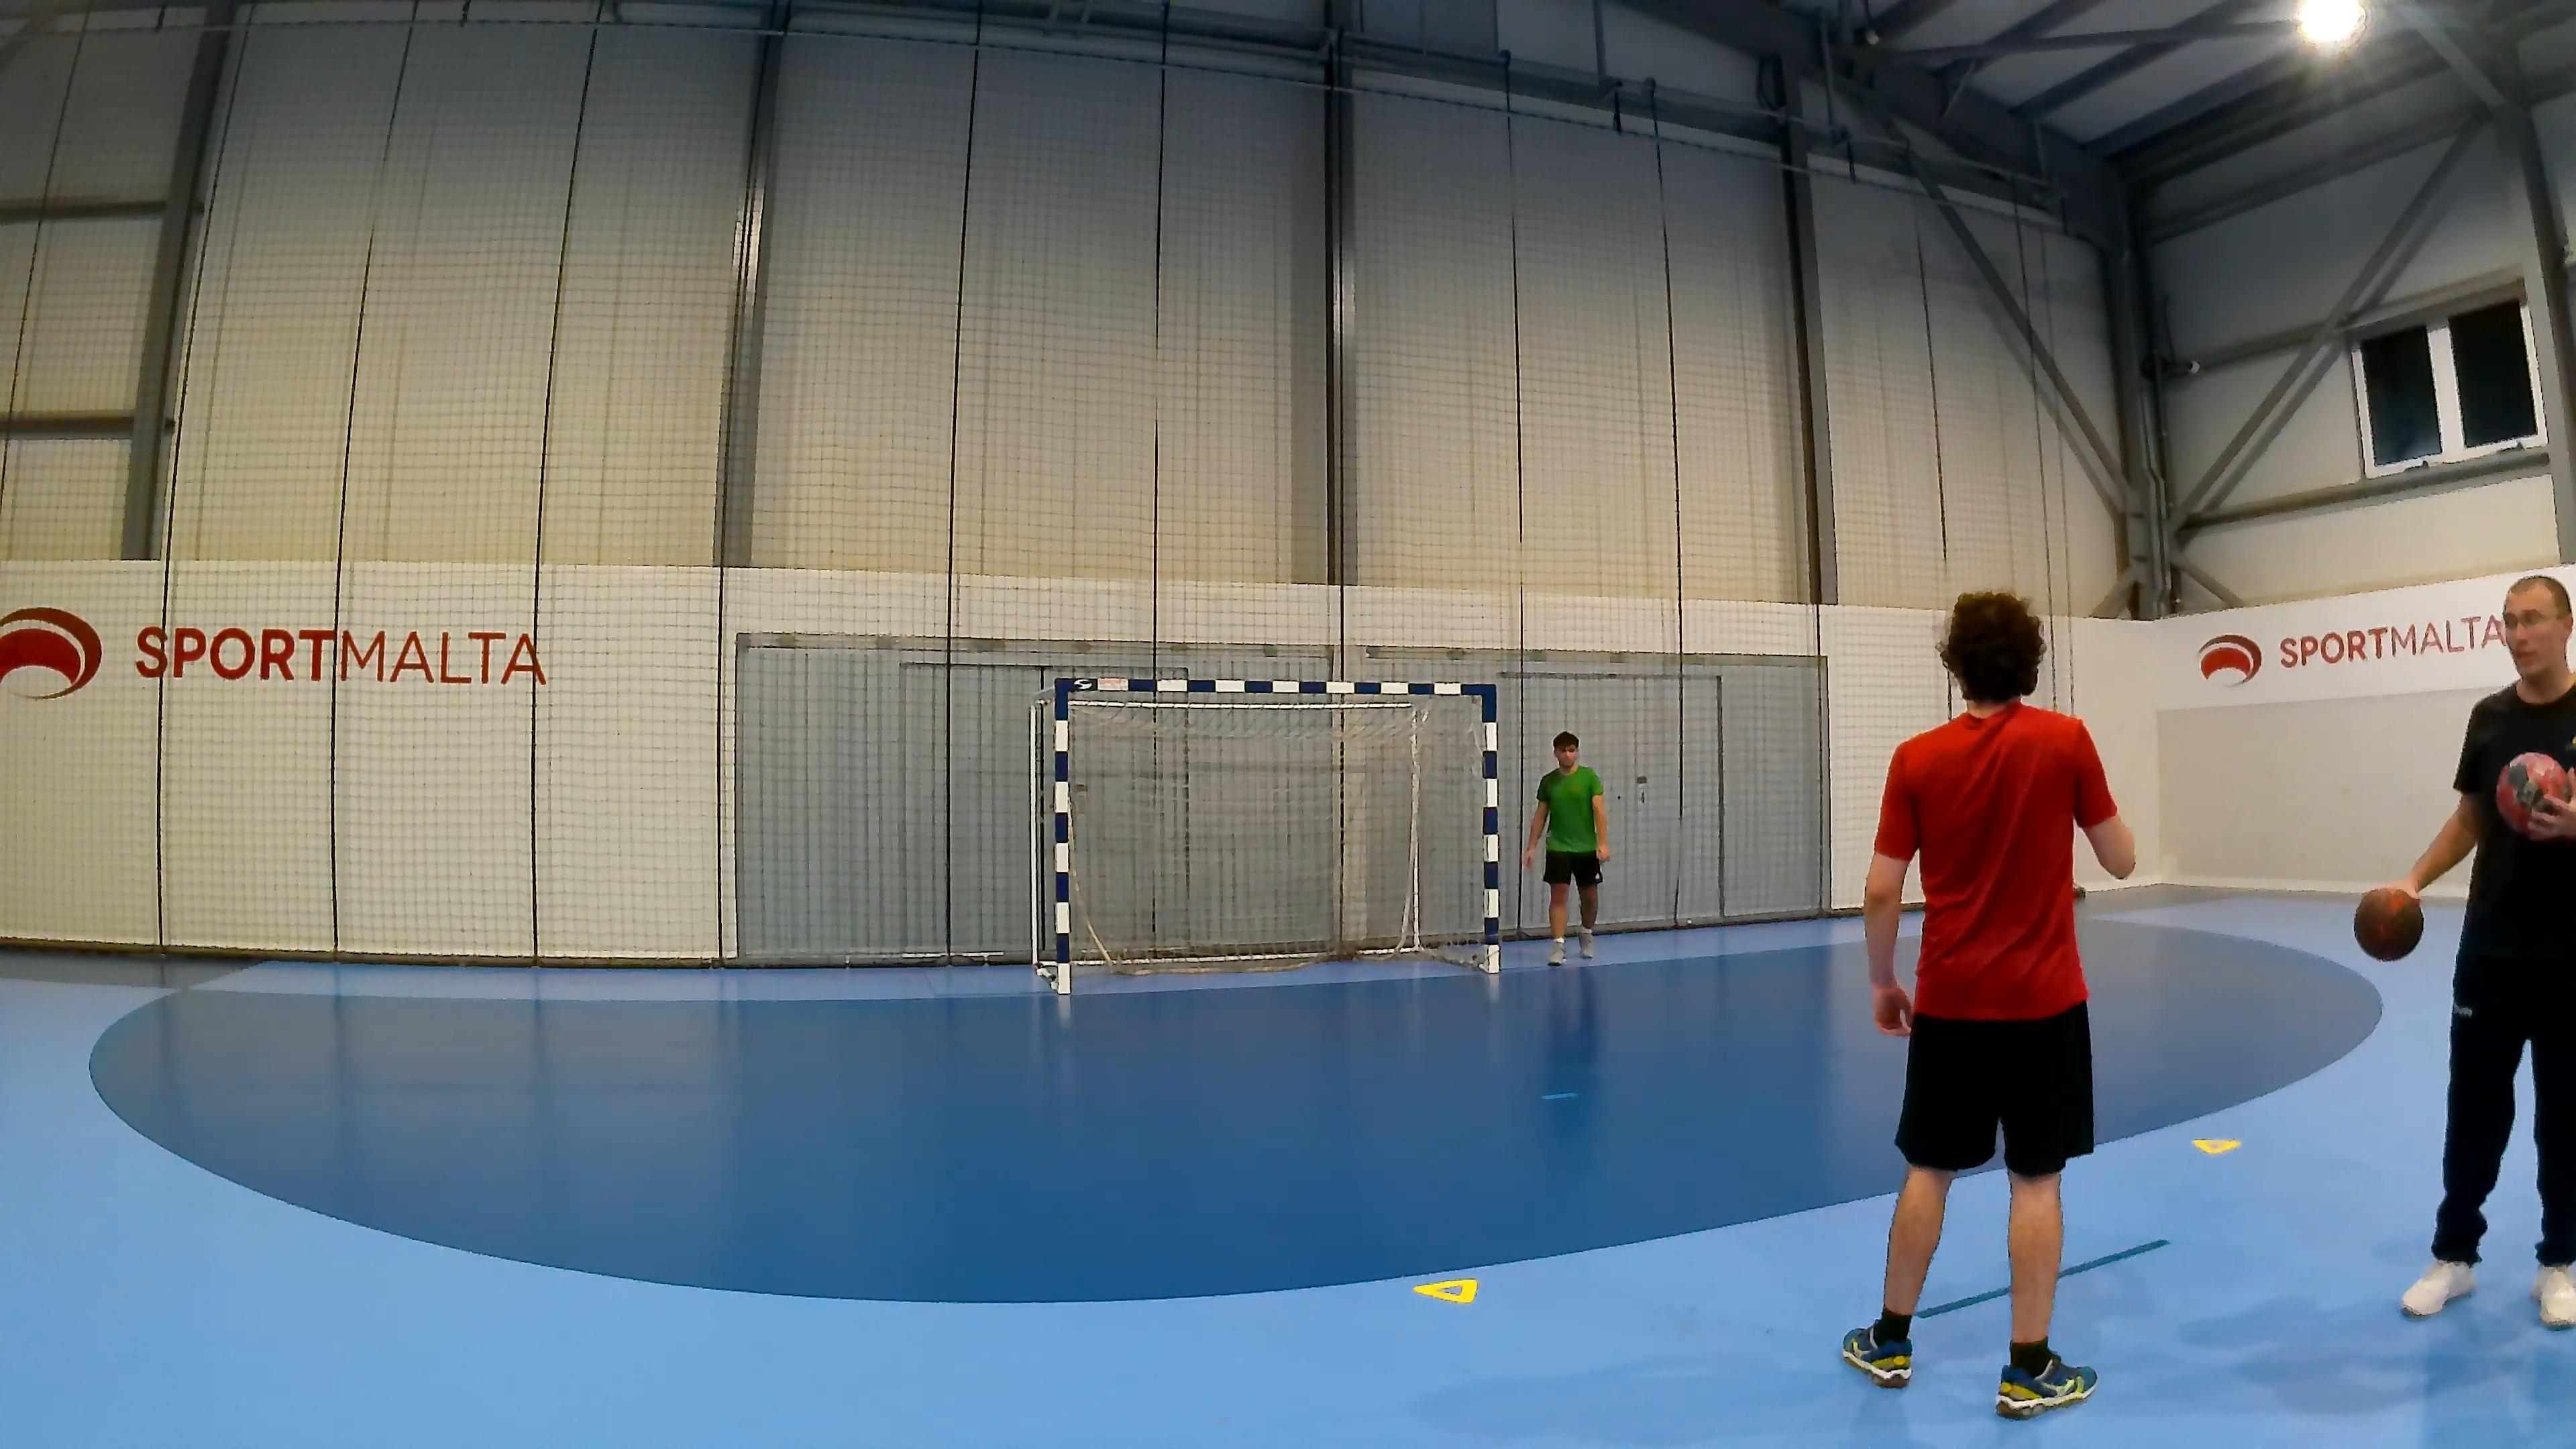handball: (2495, 750, 2569, 832), (2353, 885, 2424, 961)
